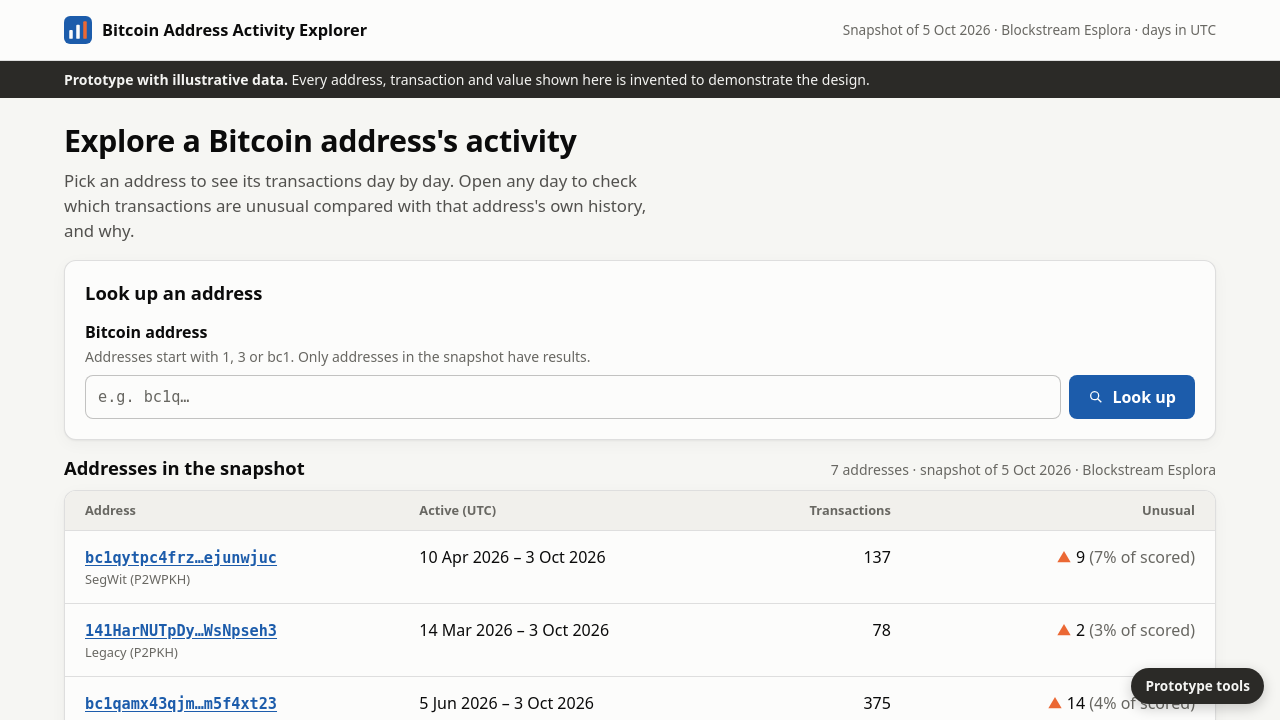
Test: usability walkthrough tasks › 4. recover from an unsupported input
The width and height of the screenshot is (1280, 720).
In the field labelled "Bitcoin address": (573, 397) [85,375,1061,419], type "bc1qr4n2l7zp3tf3cedw7aqgn5smvjklv0ugk90y57"
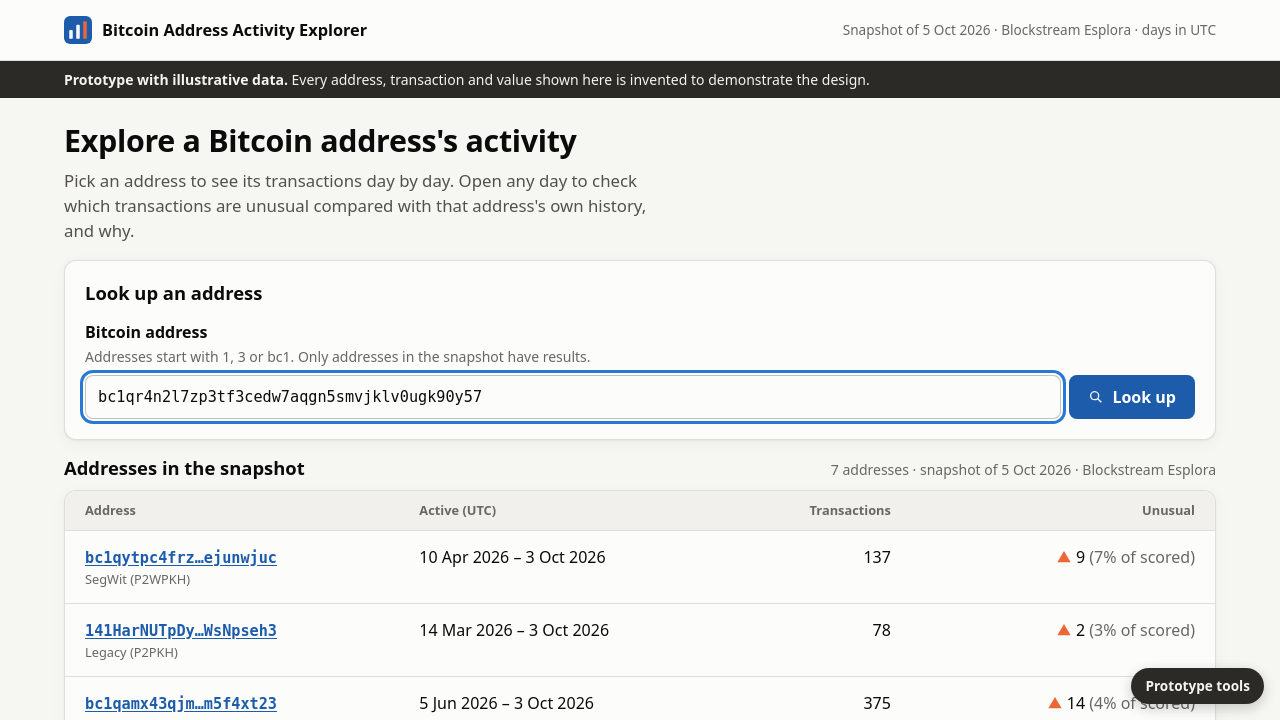
Click the button "Look up": (1132, 397) [1069,375,1195,419]
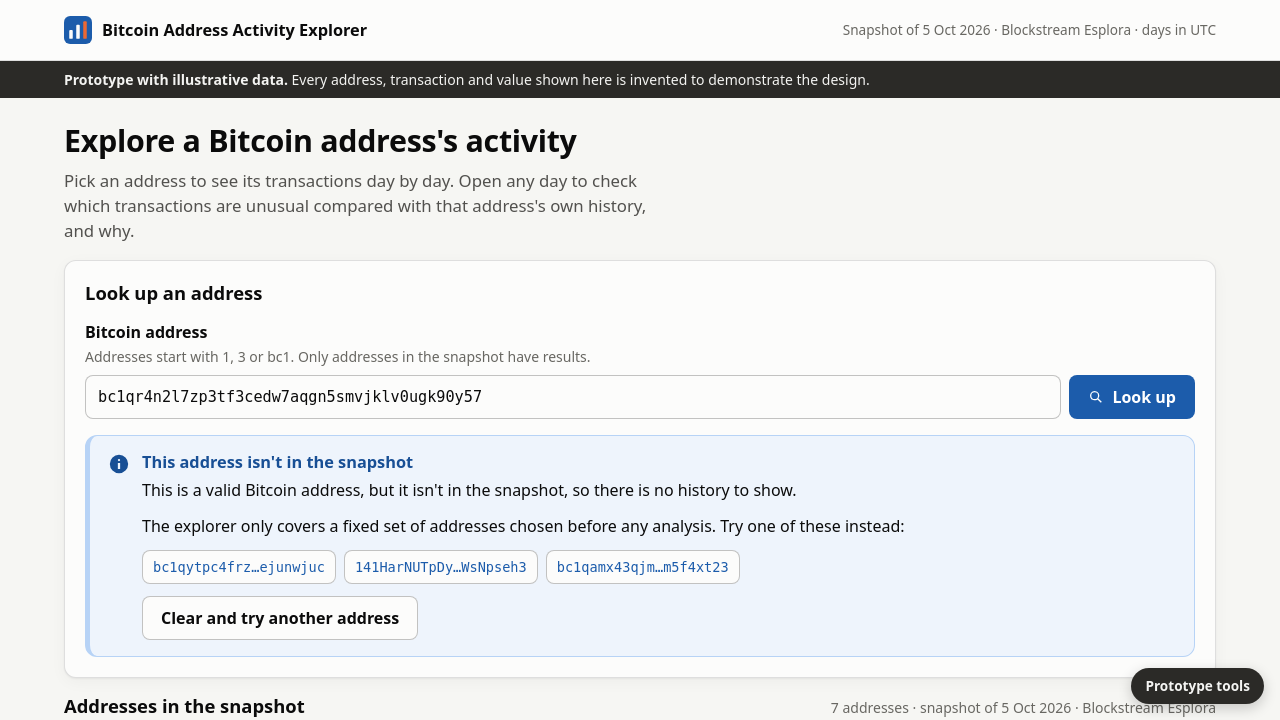
Expected: the message with test id "state-unsupported" shows "This address isn't in the snapshot", [142,451,413,473]
Click the link "bc1qytpc4frz…ejunwjuc": (239, 567) [142,550,336,584]
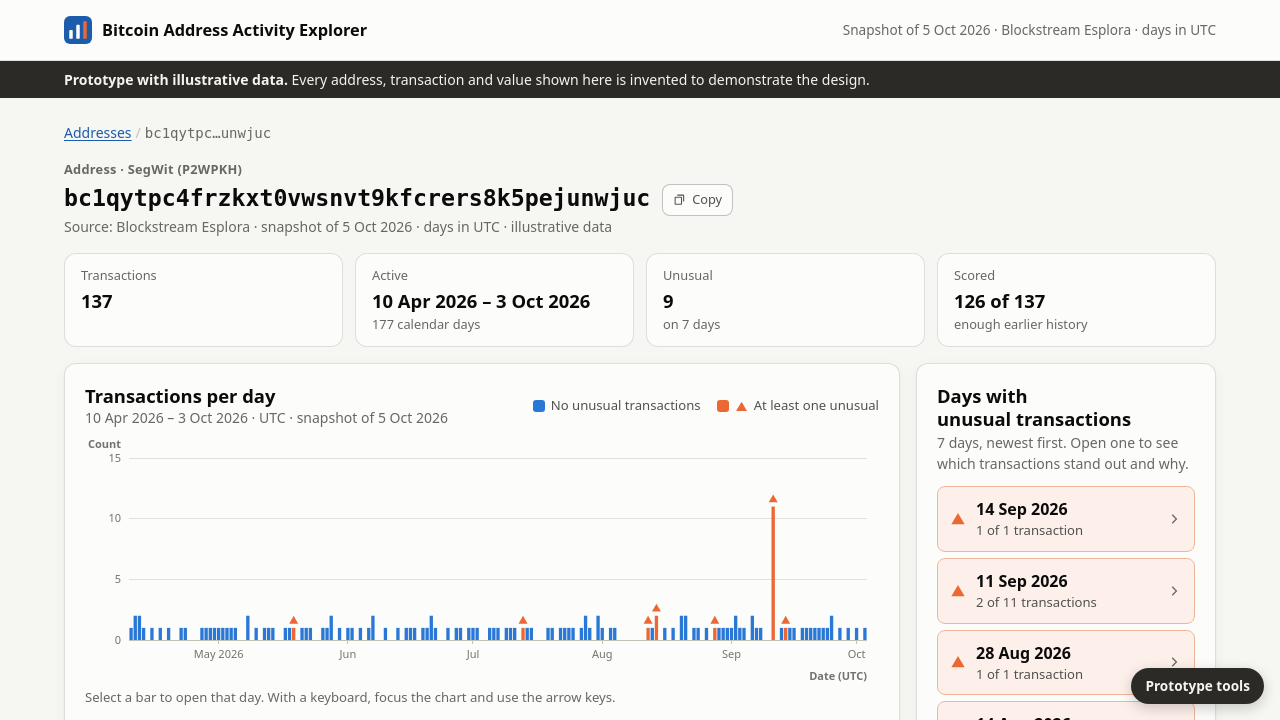
Expected: the heading "Transactions per day" is shown, [85,383,275,408]
